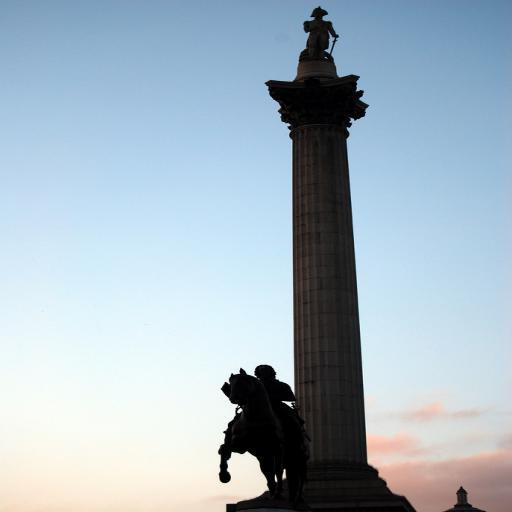horse: (216, 366, 314, 486)
